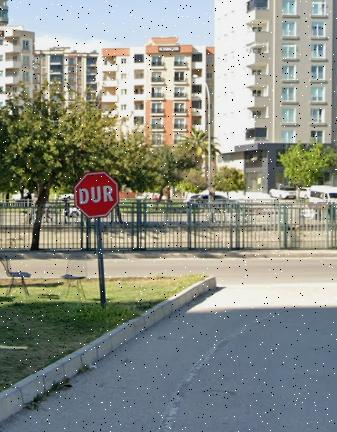stop: (75, 171, 119, 217)
